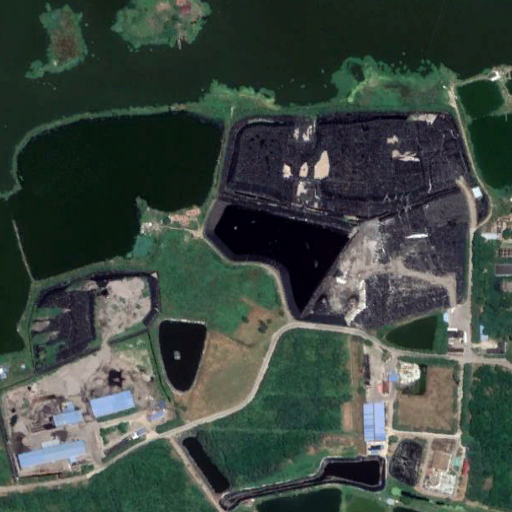lf: (208, 111, 468, 329)
